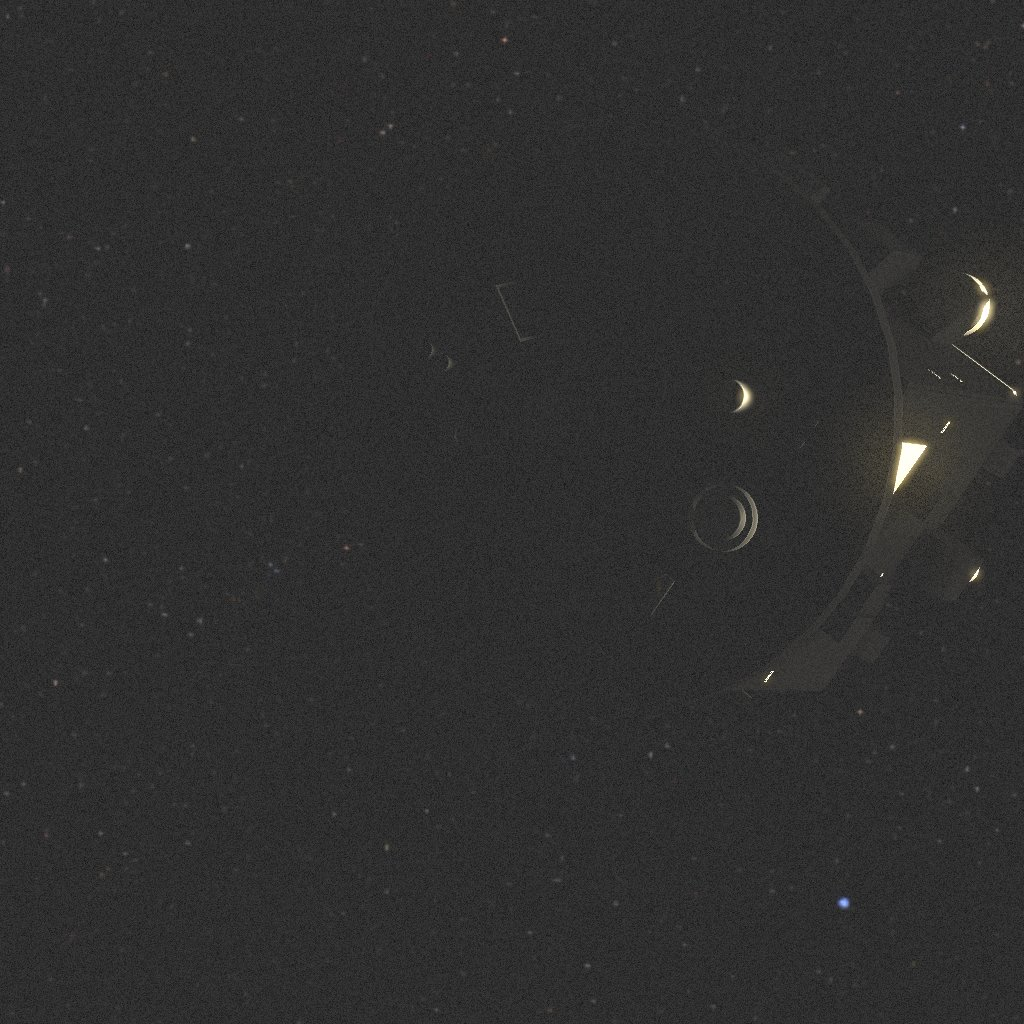proba_3_ocs: (340, 120, 1024, 713)
